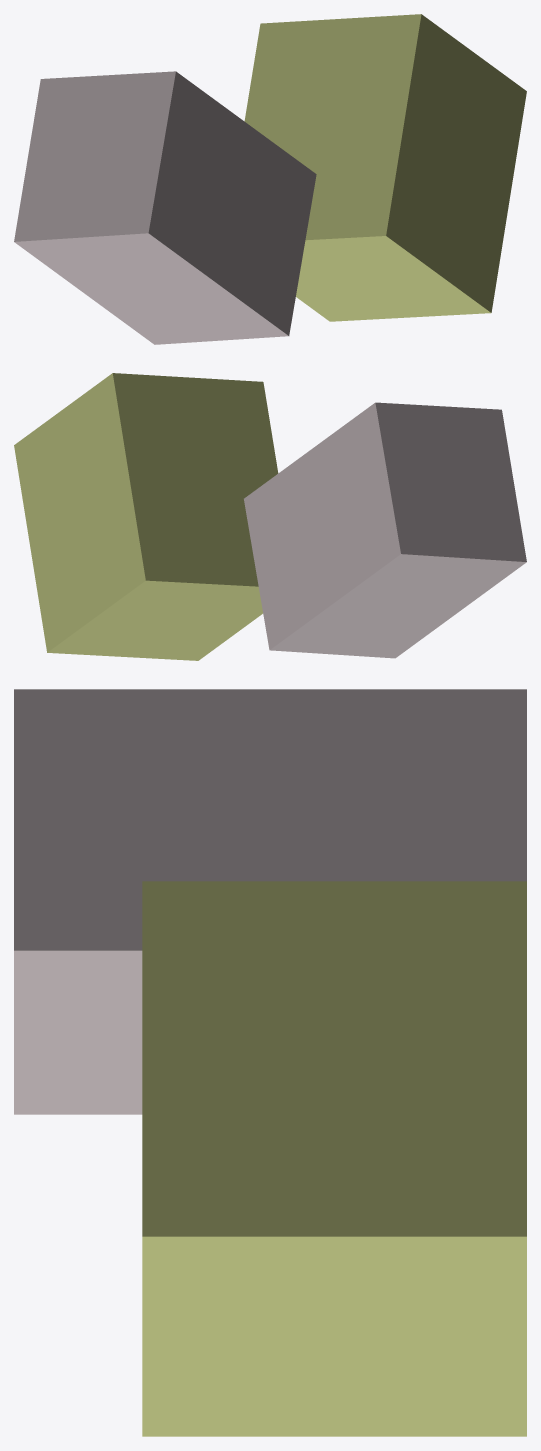
The picture shows the model from 3 angles, top to bottom: view 1: azimuth 30°, elevation 25°; view 2: azimuth 150°, elevation 25°; view 3: azimuth 270°, elevation 25°; orthographic projection. The views are drawn at different scales.
Parts seen in each view (by area): view 1: 0_1_0_0_1_0_2_2_2_0; view 2: 0_1_0_0_1_0_2_2_2_0; view 3: 0_1_0_0_1_0_2_2_2_0.
Boxes of the visible parts, x1,y1,x2,y2 form: 0_1_0_0_1_0_2_2_2_0: (14,14,526,344); 0_1_0_0_1_0_2_2_2_0: (14,373,526,660); 0_1_0_0_1_0_2_2_2_0: (14,689,526,1436).
Size of the model in its own units: 20.08 by 11.44 by 12.
